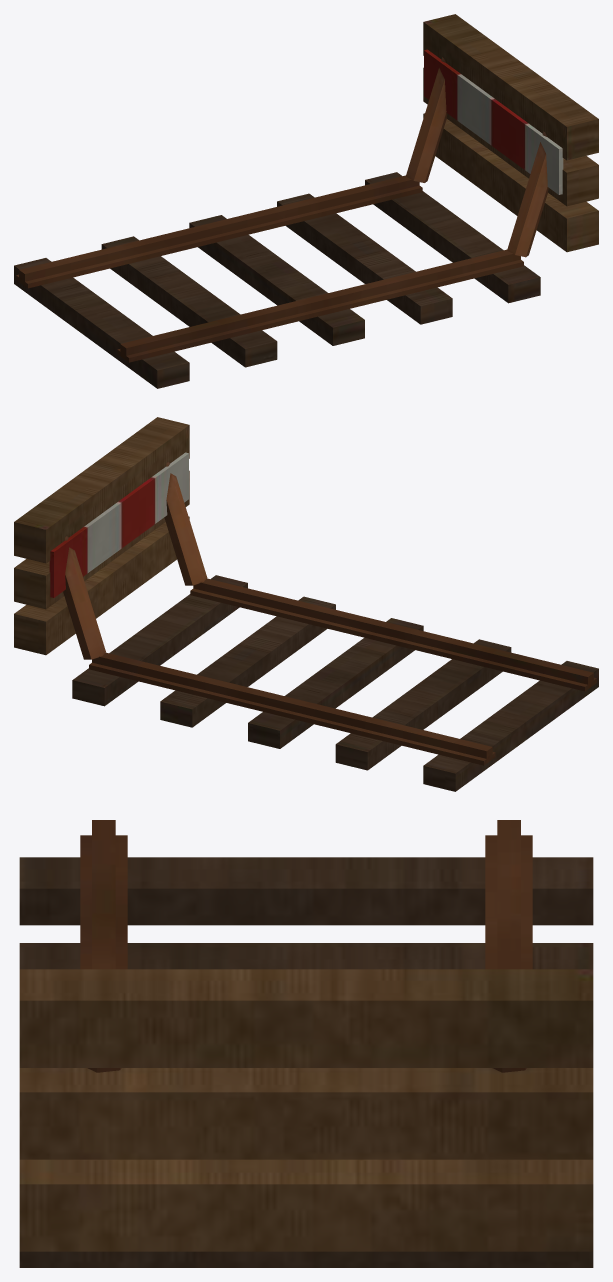
File: rails_buffer_stop_idle.glb
3 views of the same model, one above another, from view 1: azimuth 30°, elevation 25°; view 2: azimuth 150°, elevation 25°; view 3: azimuth 270°, elevation 25° (orthographic). The views are drawn at different scales.
Visible parts, largest first — view 1: rails_buffer_stop; view 2: rails_buffer_stop; view 3: rails_buffer_stop.
Part boxes in pixels (x1,y1,x2,y2): rails_buffer_stop: (14,14,598,388); rails_buffer_stop: (14,417,598,791); rails_buffer_stop: (19,820,593,1267).
Size of the model in its own units: 3.11 by 1.06 by 1.7.
1 material, 1 textured.
